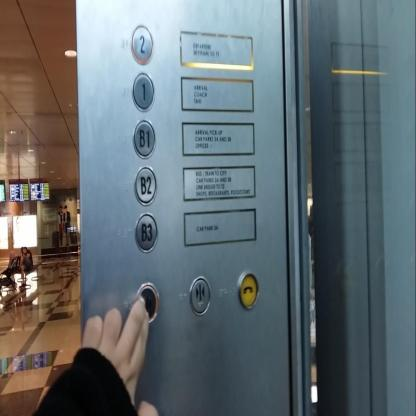1: (131, 71, 155, 112)
2: (130, 23, 154, 65)
B1: (132, 118, 156, 159)
B2: (134, 163, 156, 205)
B3: (134, 212, 158, 253)
alarm: (237, 270, 258, 310)
close: (188, 275, 212, 316)
